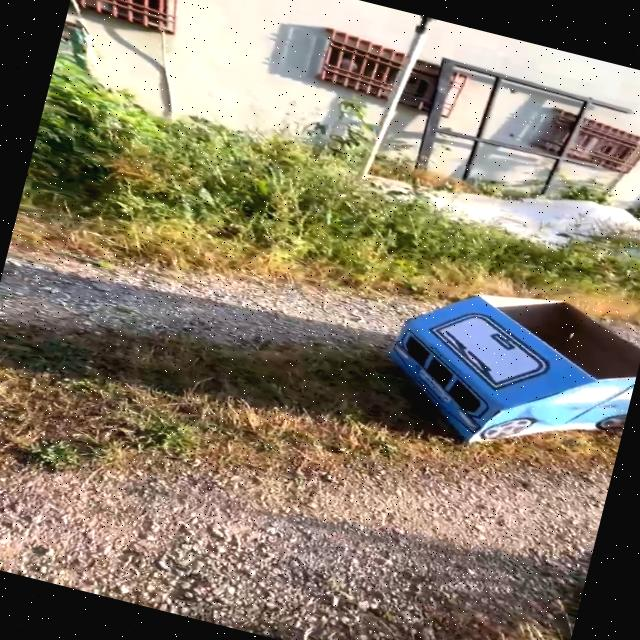blue_car: (333, 223, 640, 508)
